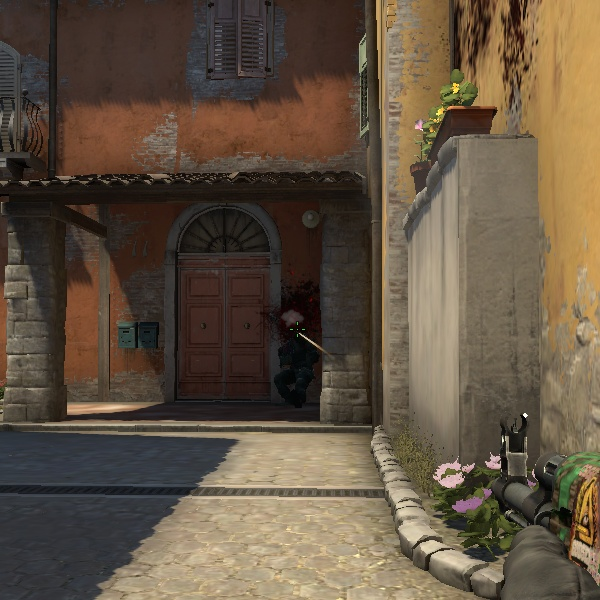ct_body: (268, 314, 327, 413)
t_body: (268, 314, 327, 413)
t_head: (279, 309, 307, 340)
